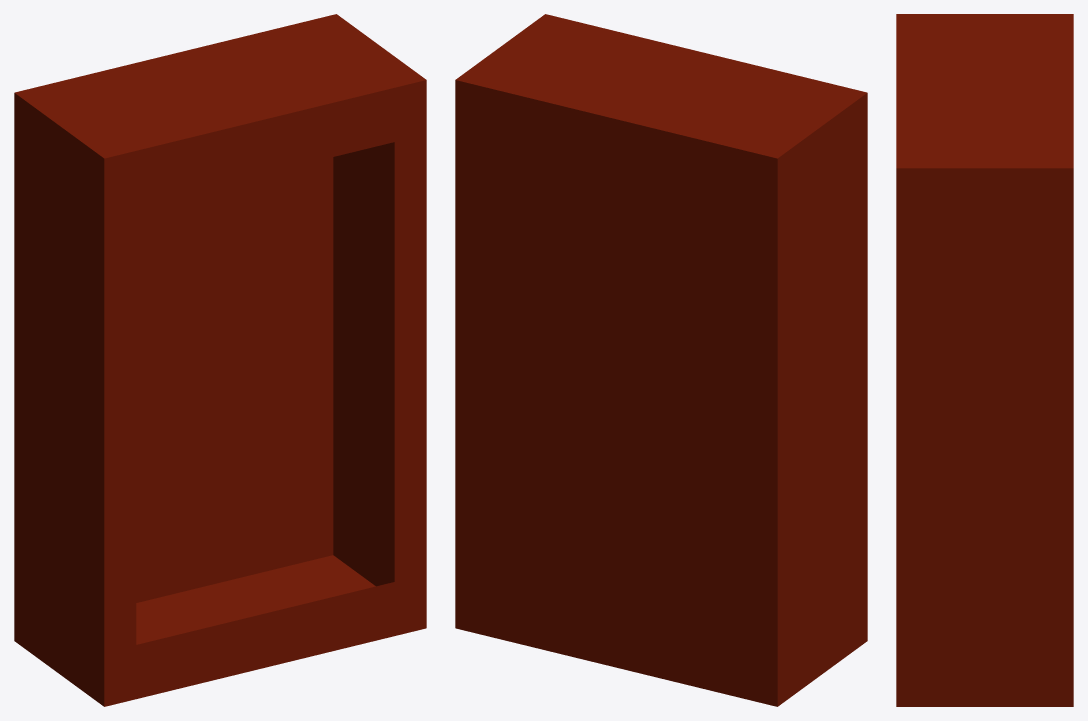
The model's file is Closet.FBX.
3 renders of one model, left to right at view 1: azimuth 30°, elevation 25°; view 2: azimuth 150°, elevation 25°; view 3: azimuth 270°, elevation 25°, orthographic.
Visible parts, largest first — view 1: Closet; view 2: Closet; view 3: Closet.
Boxes of the visible parts, bbox=[...] form: Closet: bbox=[14, 14, 426, 706]; Closet: bbox=[455, 14, 867, 706]; Closet: bbox=[896, 14, 1073, 706].
Bounding box in the file's own units: 65.3 × 31.62 × 106.
